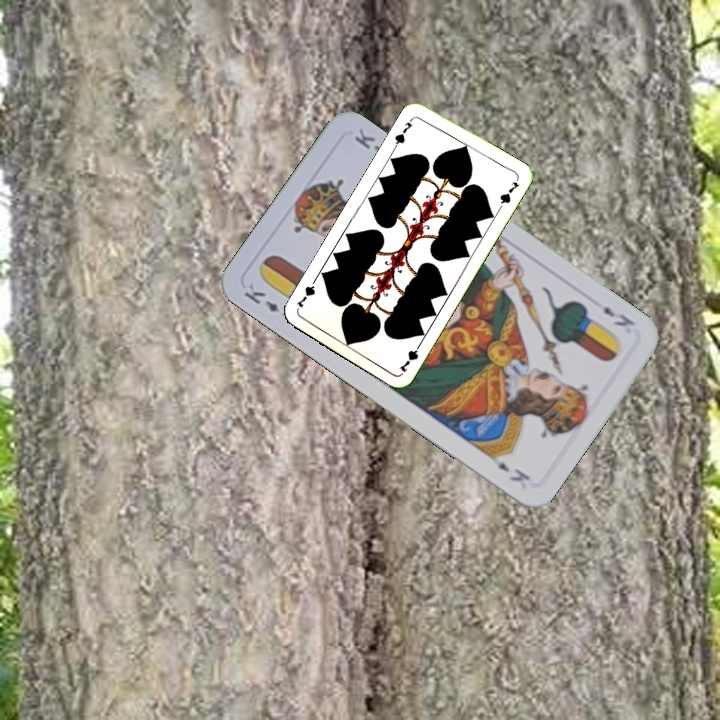EK: (240, 279, 282, 315), (599, 302, 638, 330)
G7: (395, 338, 424, 375), (390, 113, 417, 150)
